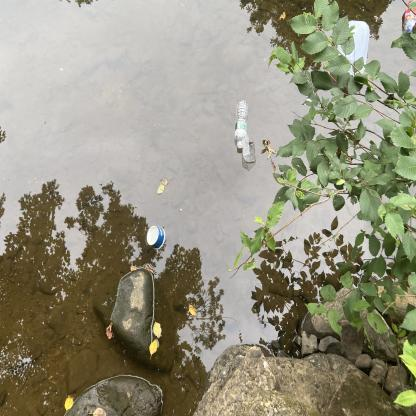trash: (334, 19, 372, 82), (230, 98, 252, 152), (145, 225, 168, 252), (240, 132, 258, 166), (402, 0, 416, 38)
